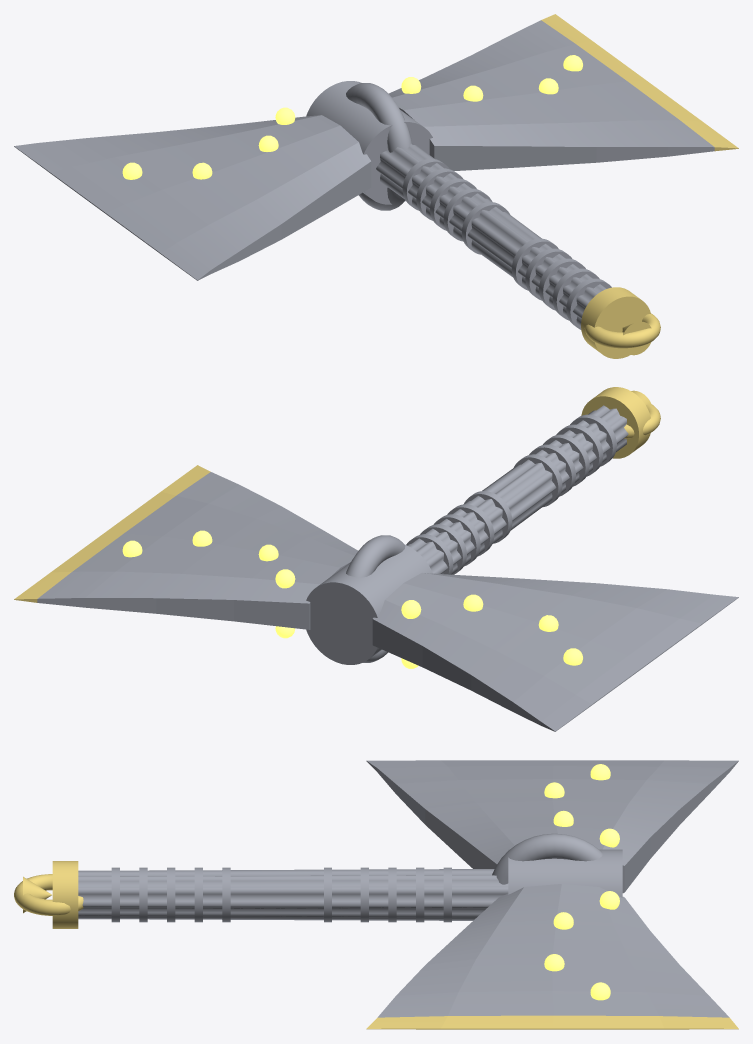
The model's file is art_titan_earthshaker.fbx.
3 renders of one model, top to bottom at view 1: azimuth 30°, elevation 25°; view 2: azimuth 150°, elevation 25°; view 3: azimuth 270°, elevation 25°, orthographic.
Parts seen in each view (by area): view 1: BackSpike, Blade, Handle, HeadCollar, Pommel, BladeEdge, RuneInlay; view 2: BackSpike, Blade, Handle, HeadCollar, BladeEdge, RuneInlay, Pommel; view 3: Blade, BackSpike, Handle, HeadCollar, BladeEdge, Pommel, RuneInlay.
Boxes of the visible parts, <box> form: BackSpike: <box>14,115,371,280</box>; Blade: <box>388,20,714,170</box>; Handle: <box>376,144,611,329</box>; HeadCollar: <box>306,81,432,210</box>; Pommel: <box>581,287,660,358</box>; BladeEdge: <box>541,14,738,151</box>; RuneInlay: <box>122,55,582,179</box>; BackSpike: <box>372,572,738,731</box>; Blade: <box>37,472,357,629</box>; Handle: <box>406,405,628,574</box>; HeadCollar: <box>306,535,432,664</box>; BladeEdge: <box>14,465,210,602</box>; RuneInlay: <box>122,530,582,668</box>; Pommel: <box>581,387,660,458</box>; Blade: <box>377,884,729,1017</box>; BackSpike: <box>366,760,738,893</box>; Handle: <box>78,867,508,922</box>; HeadCollar: <box>492,833,622,897</box>; BladeEdge: <box>366,1015,738,1029</box>; Pommel: <box>14,861,83,928</box>; RuneInlay: <box>544,764,619,1000</box>.
Bounding box in the file's own units: 344 × 72 × 393.
